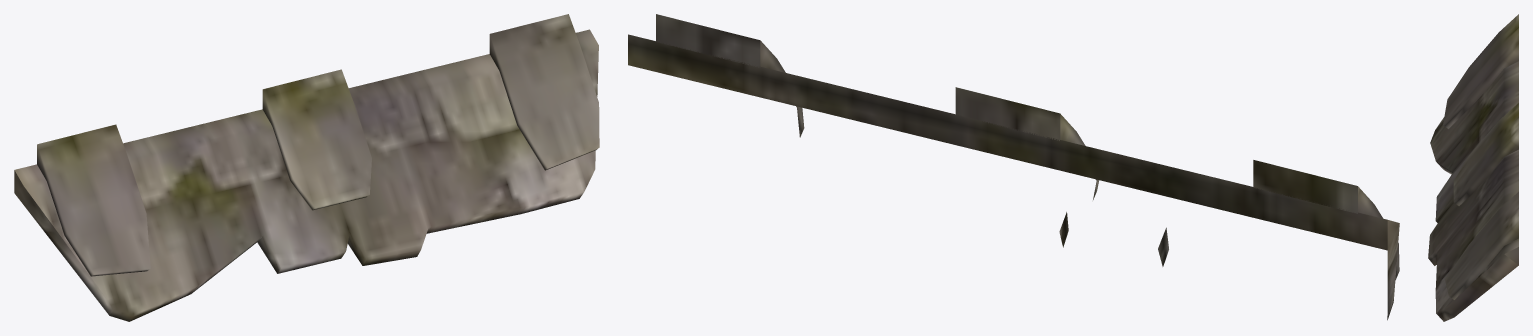
Rendered from roof.triangle.wood.down.top.line.glb.
3 views of the same model, side by side, from view 1: azimuth 30°, elevation 25°; view 2: azimuth 150°, elevation 25°; view 3: azimuth 270°, elevation 25° (orthographic). The views are drawn at different scales.
Parts seen in each view (by area): view 1: model; view 2: model; view 3: model.
Boxes of the visible parts, box(x1,y1,x2,y2) form: model: box(14, 14, 599, 321); model: box(628, 14, 1399, 320); model: box(1428, 14, 1518, 321).
Bounding box in the file's own units: 3 × 0.7707 × 0.5102.
1 material, 1 textured.
